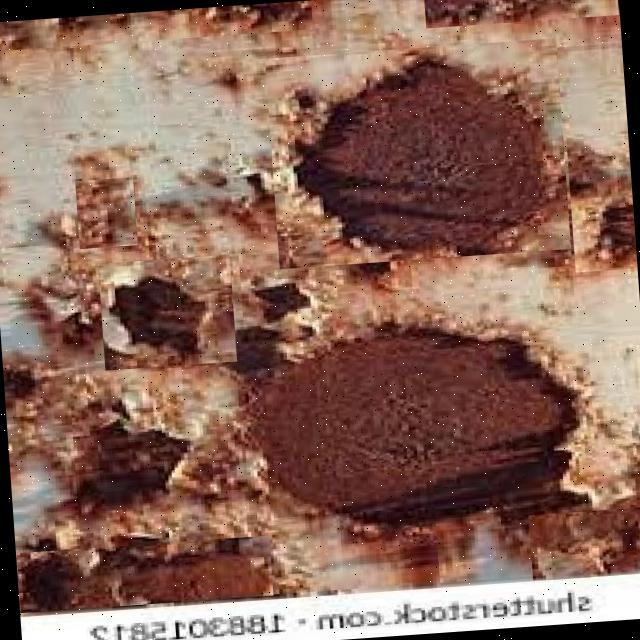Corrosion: (0, 0, 640, 614), (235, 308, 588, 530), (286, 43, 568, 266)
